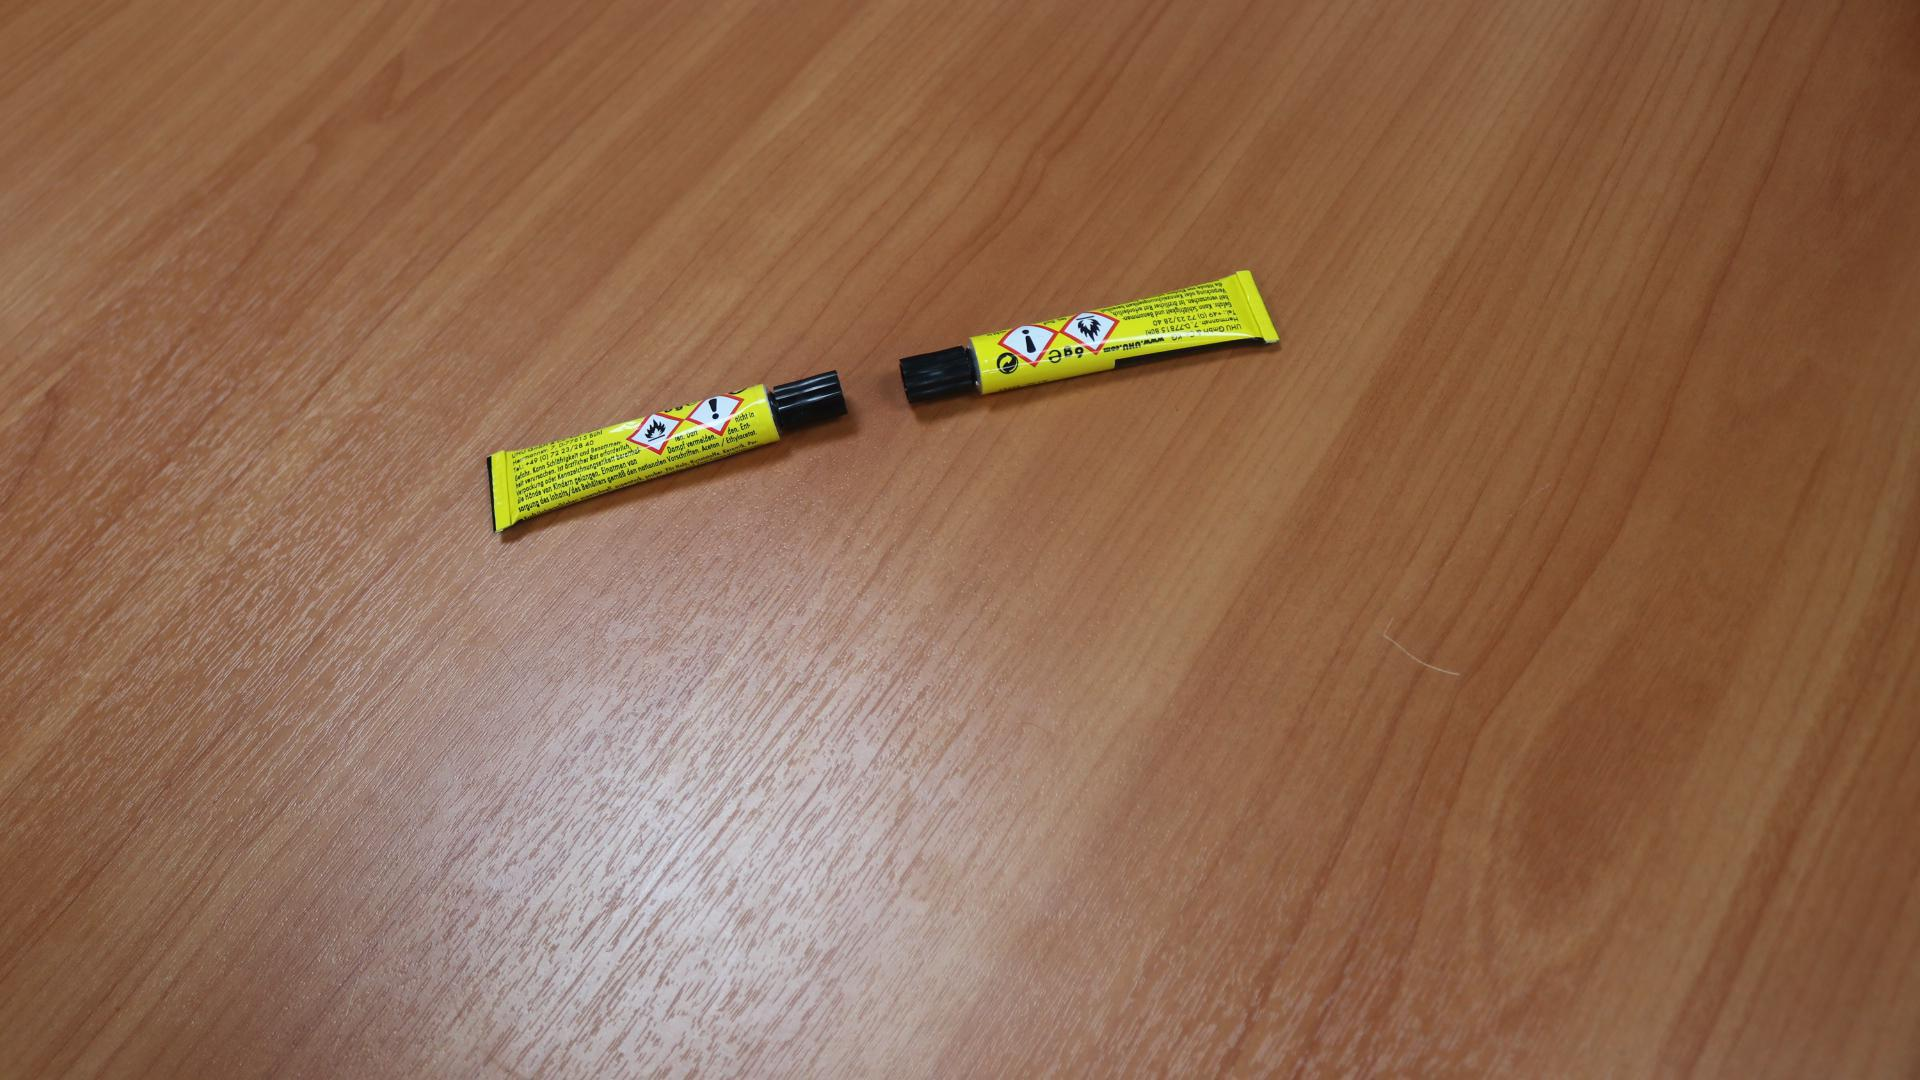Head: (801, 395, 812, 404), (932, 369, 942, 377)
Tail: (1252, 301, 1262, 312), (495, 485, 504, 494)
Tube: (487, 371, 847, 532), (897, 268, 1280, 407)
